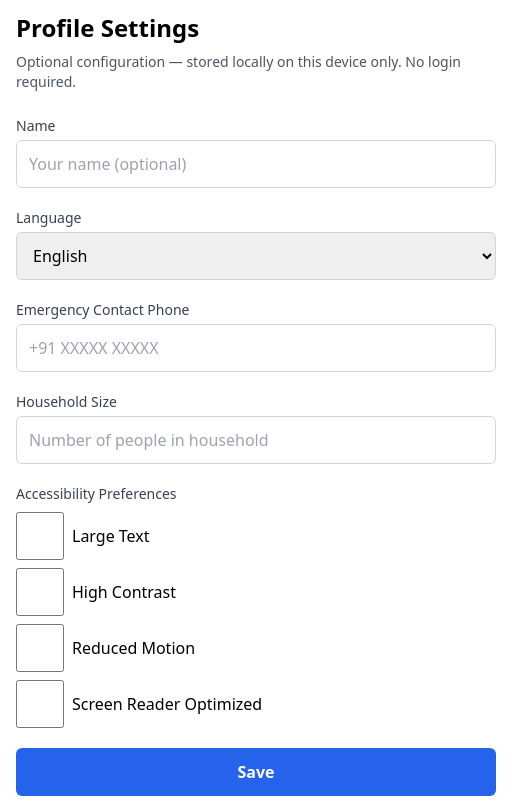
Test: ProfileScreen › Saving profile › displays success message after saving
This screenshot has width=513, height=806.
Click the button "Save" at x=256, y=772, box [16,748,496,796]
(page scrolled)
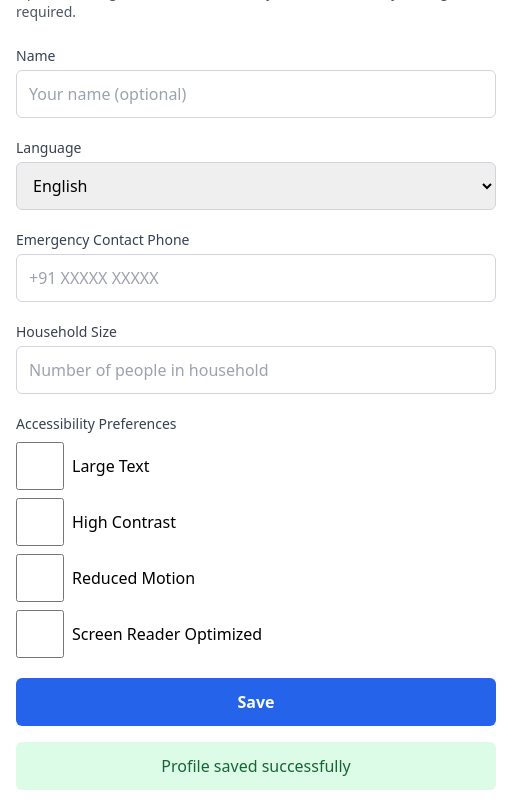
Check: the text "Profile saved successfully" is shown, box [16,742,496,790]
